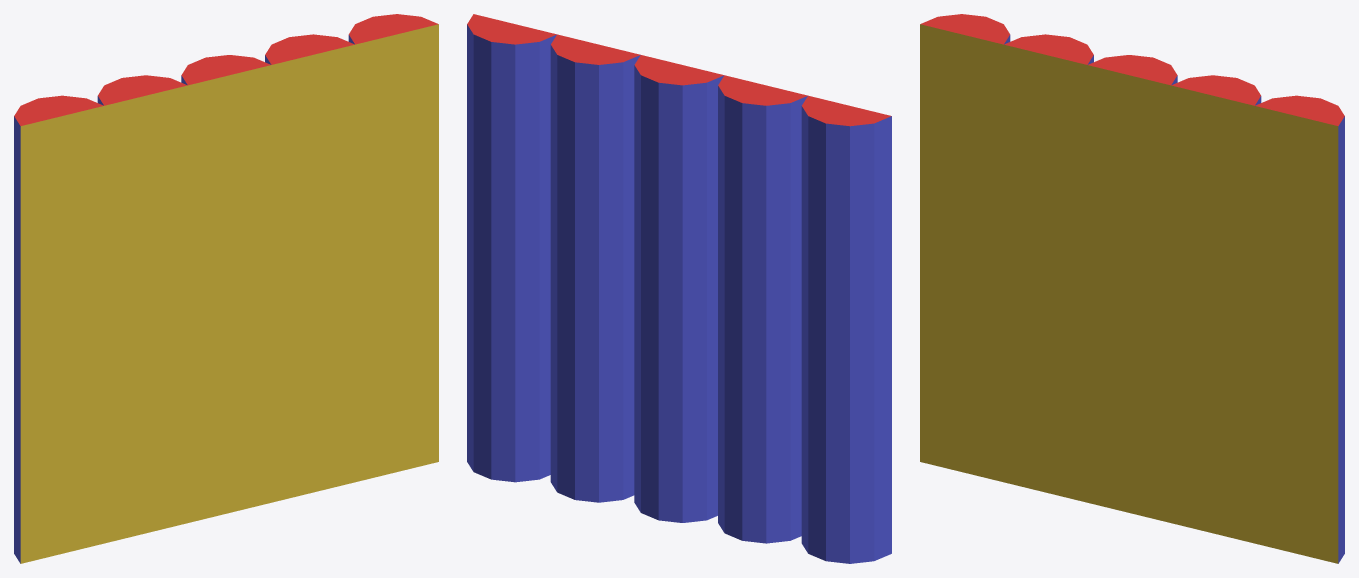
File: WoodenWall.fbx
3 views of the same model, side by side, from view 1: azimuth 30°, elevation 25°; view 2: azimuth 150°, elevation 25°; view 3: azimuth 330°, elevation 25° (orthographic).
Parts seen in each view (by area): view 1: WoodenWall; view 2: WoodenWall; view 3: WoodenWall.
Boxes of the visible parts, x1,y1,x2,y2 form: WoodenWall: (14, 14, 438, 563); WoodenWall: (467, 14, 891, 563); WoodenWall: (920, 14, 1344, 563).
Size of the model in its own units: 650 by 650 by 65.
